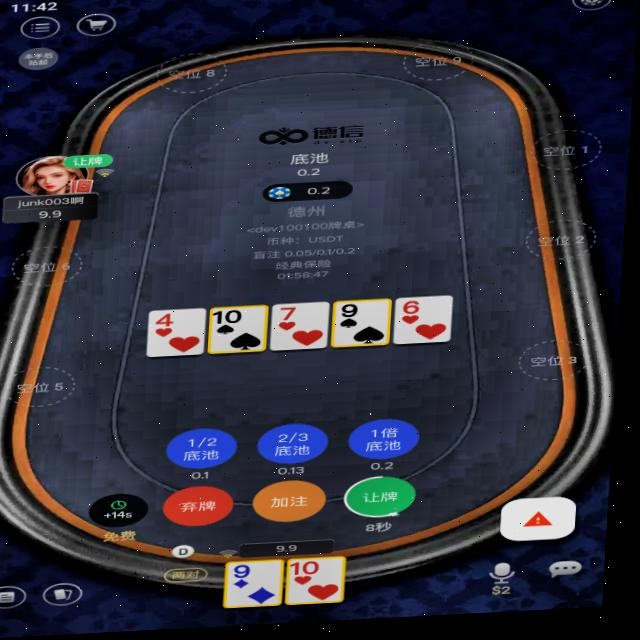10h: (296, 564, 329, 581)
10s: (215, 310, 249, 328)
4h: (157, 314, 183, 331)
6h: (403, 304, 428, 320)
7h: (279, 308, 307, 327)
9f: (236, 566, 263, 583)
9s: (341, 306, 369, 324)
